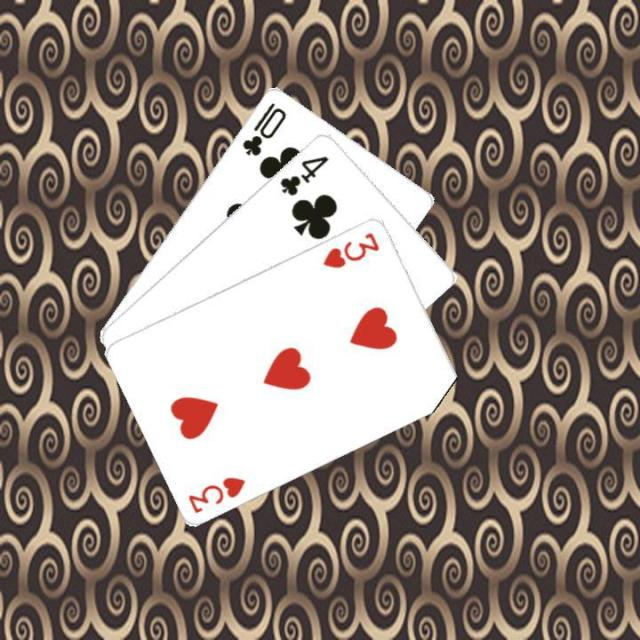10C: (237, 98, 288, 157)
3H: (184, 472, 248, 515), (319, 228, 382, 270)
4C: (276, 151, 330, 197)
